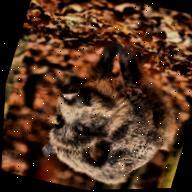boar: (31, 27, 192, 191)
